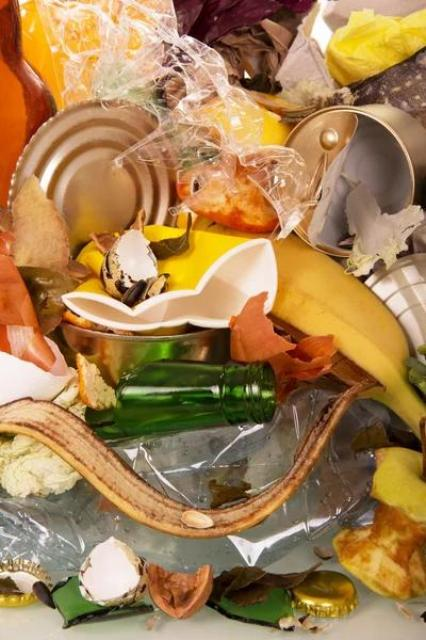Garbage: (2, 0, 426, 640)
Glass_bottle: (86, 360, 277, 439)
contaminated_waste: (0, 400, 403, 576), (114, 379, 345, 507), (10, 101, 175, 254), (285, 105, 426, 257)
